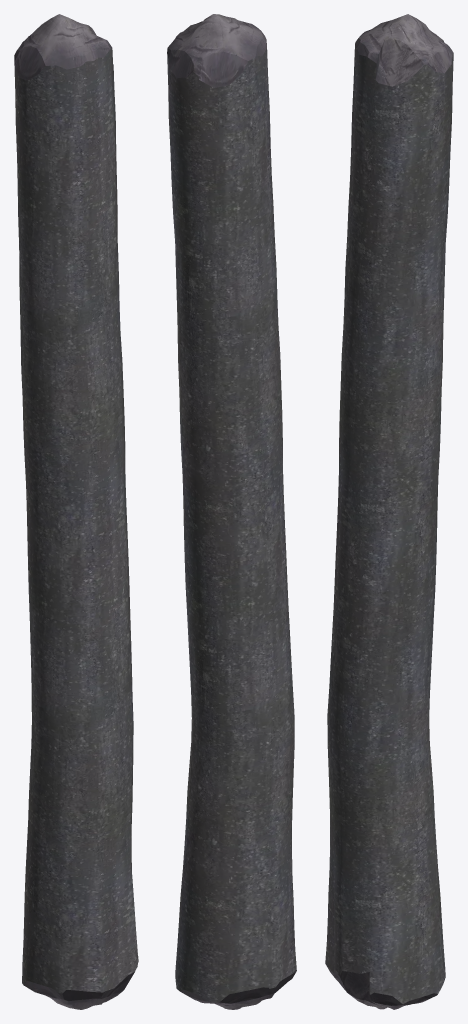
The picture shows the model from 3 angles, left to right: view 1: azimuth 90°, elevation 25°; view 2: azimuth 150°, elevation 25°; view 3: azimuth 330°, elevation 25°; orthographic projection.
Visible parts, largest first — view 1: SM_FH_Ash_Tree_02_half_bottom_LOD0; view 2: SM_FH_Ash_Tree_02_half_bottom_LOD0; view 3: SM_FH_Ash_Tree_02_half_bottom_LOD0.
Boxes of the visible parts, left/top/right/bottom form: SM_FH_Ash_Tree_02_half_bottom_LOD0: left=14, top=14, right=138, bottom=1009; SM_FH_Ash_Tree_02_half_bottom_LOD0: left=167, top=14, right=296, bottom=1009; SM_FH_Ash_Tree_02_half_bottom_LOD0: left=325, top=14, right=453, bottom=1009.
Bounding box in the file's own units: 0.4642 × 4.24 × 0.4836.
Materials: 1 (1 with a texture image).
